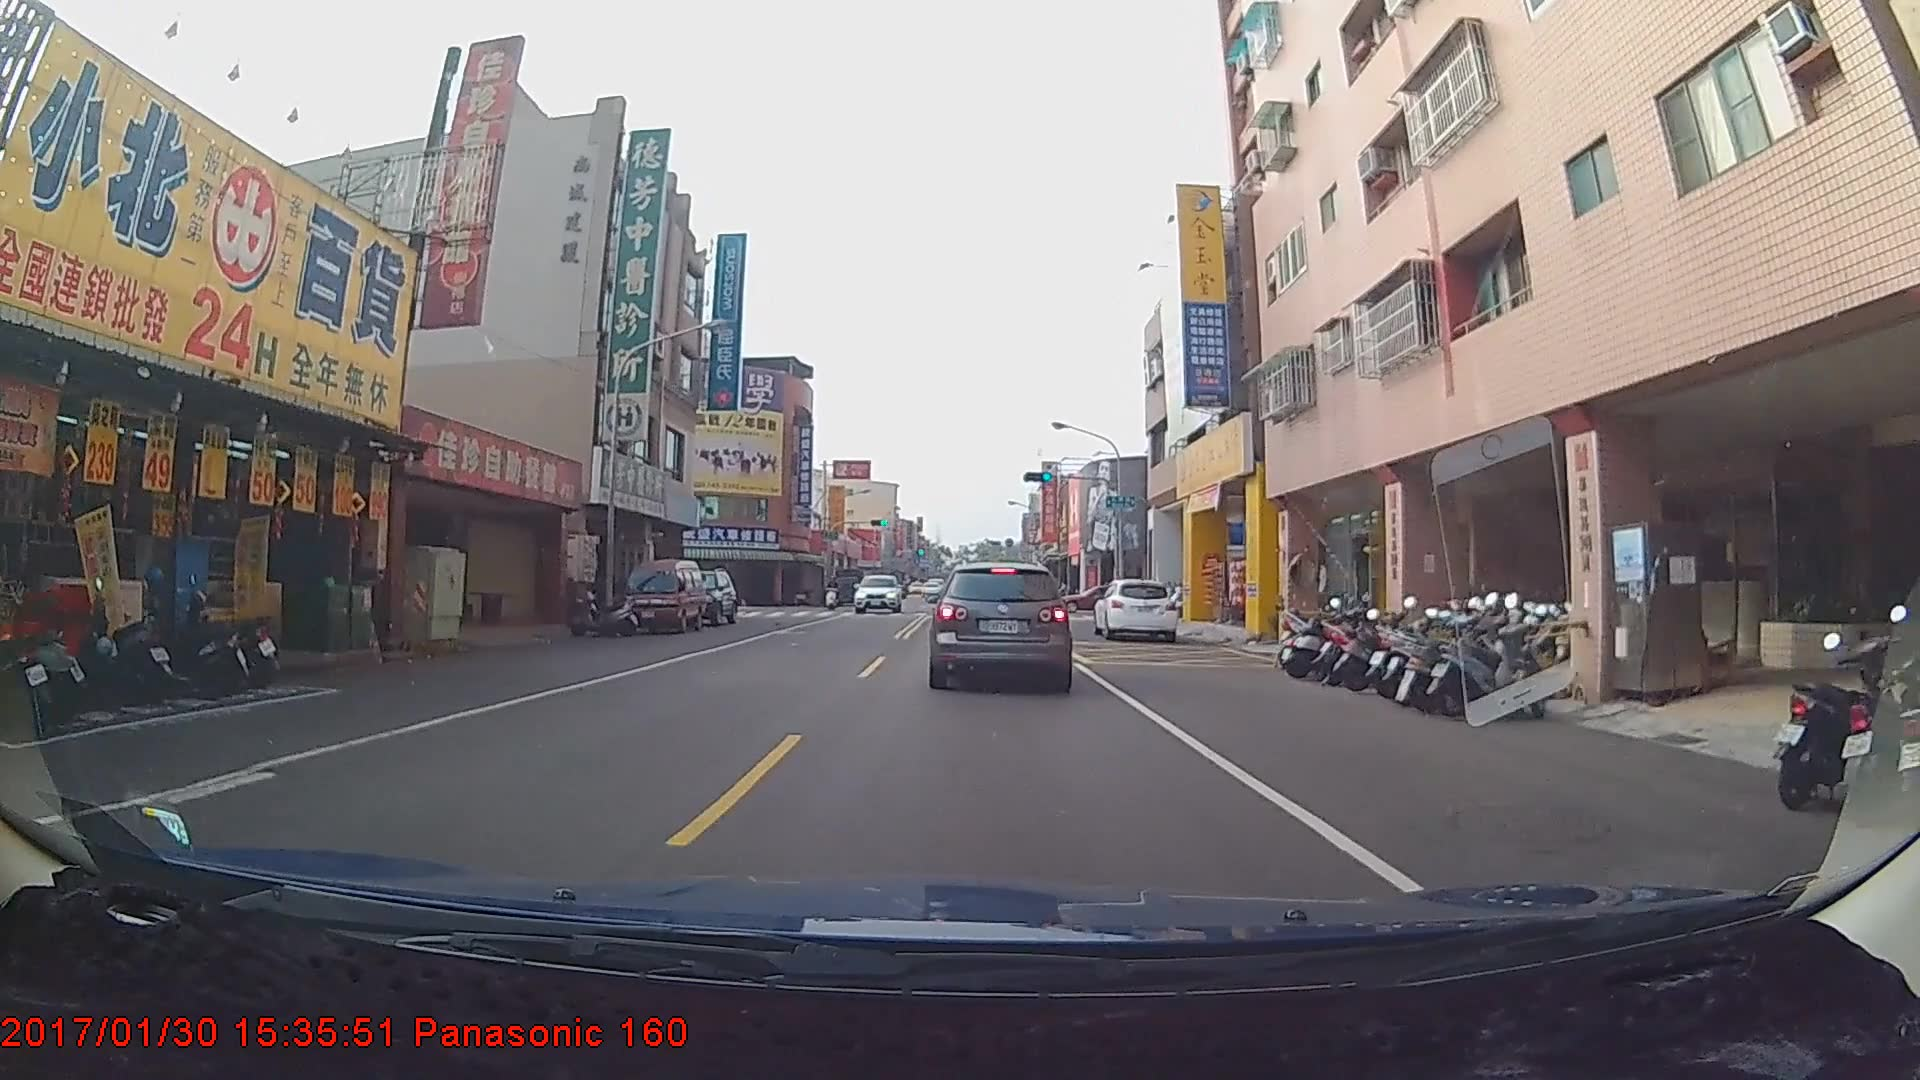vehicle: (931, 558, 1071, 688), (617, 564, 705, 638), (1092, 576, 1178, 644), (669, 566, 738, 626), (851, 576, 890, 611)
